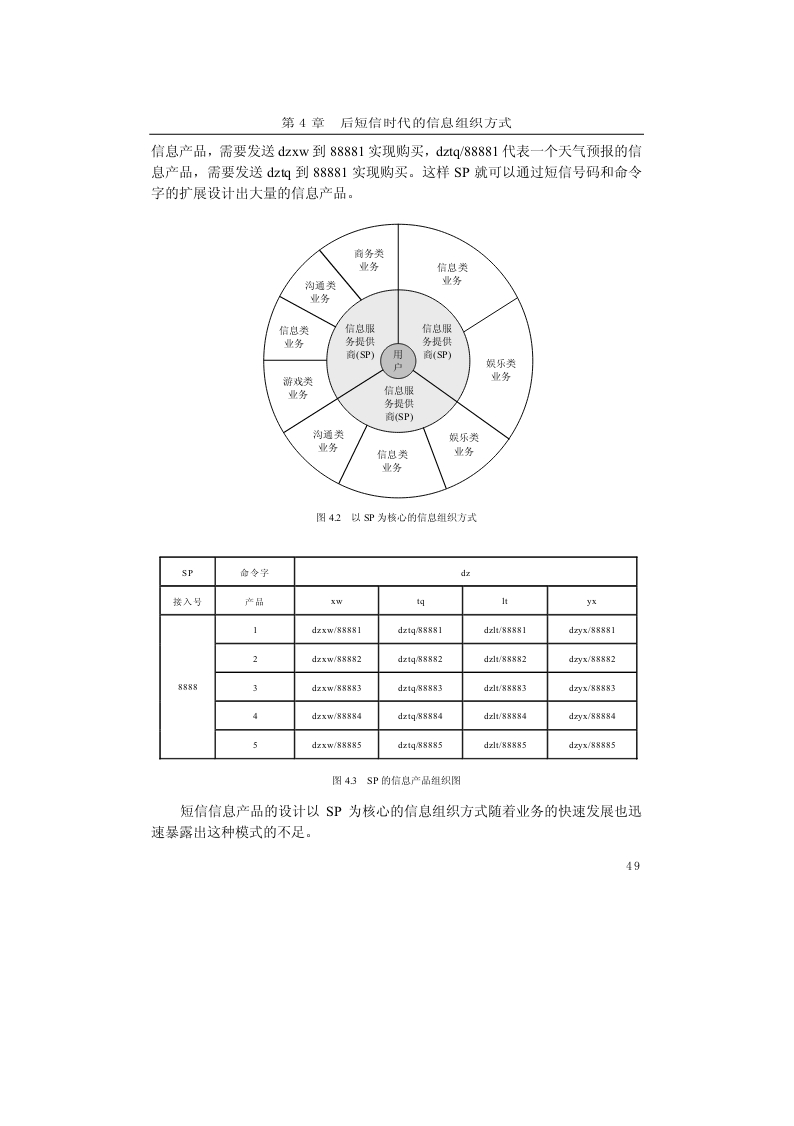table: (159, 556, 638, 760)
